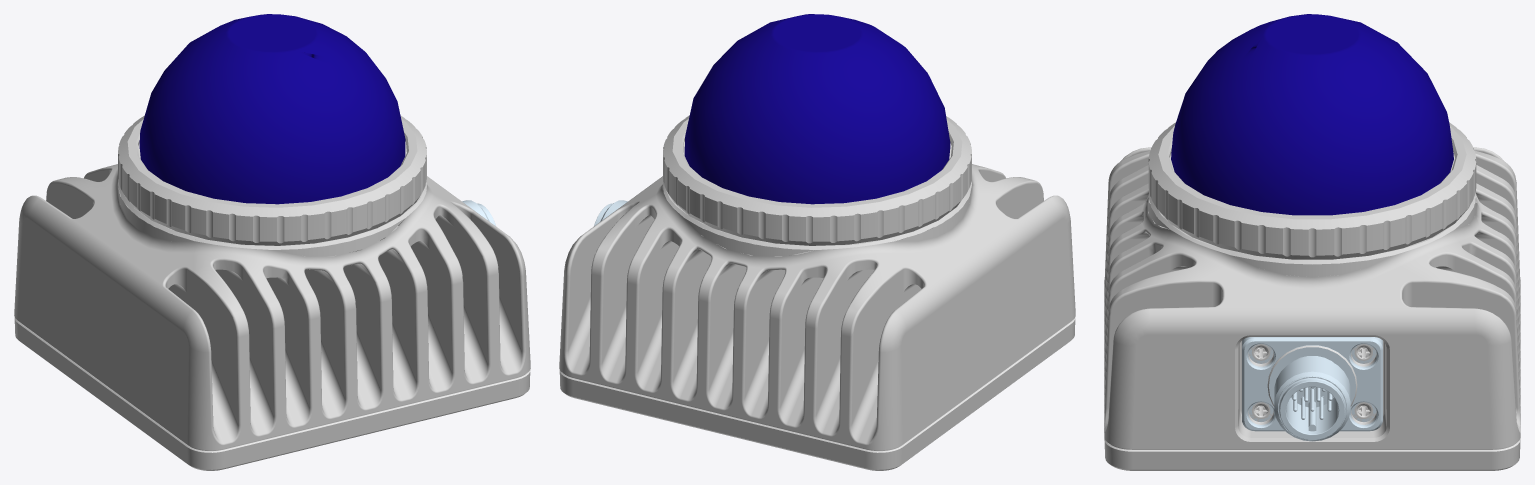
File: dji_mid360.glb
3 views of the same model, side by side, from view 1: azimuth 30°, elevation 25°; view 2: azimuth 150°, elevation 25°; view 3: azimuth 270°, elevation 25° (orthographic). The views are drawn at different scales.
Visible parts, largest first — view 1: =>[0:1:1:9], MID-360_4_1, MID-360_4_2; view 2: =>[0:1:1:9], MID-360_4_1, MID-360_4_2; view 3: =>[0:1:1:9], MID-360_4_1, MID-360_4_3, MID-360_4_2.
Boxes of the visible parts, left/top/right/bottom form: =>[0:1:1:9]: left=14, top=164, right=530, bottom=450; MID-360_4_1: left=118, top=14, right=426, bottom=245; MID-360_4_2: left=14, top=243, right=530, bottom=470; =>[0:1:1:9]: left=559, top=164, right=1075, bottom=450; MID-360_4_1: left=663, top=14, right=971, bottom=245; MID-360_4_2: left=559, top=243, right=1075, bottom=470; =>[0:1:1:9]: left=1104, top=147, right=1520, bottom=449; MID-360_4_1: left=1148, top=14, right=1476, bottom=259; MID-360_4_3: left=1242, top=337, right=1382, bottom=441; MID-360_4_2: left=1104, top=438, right=1520, bottom=470.
Size of the model in its own units: 0.0727 by 0.0601 by 0.0649.
